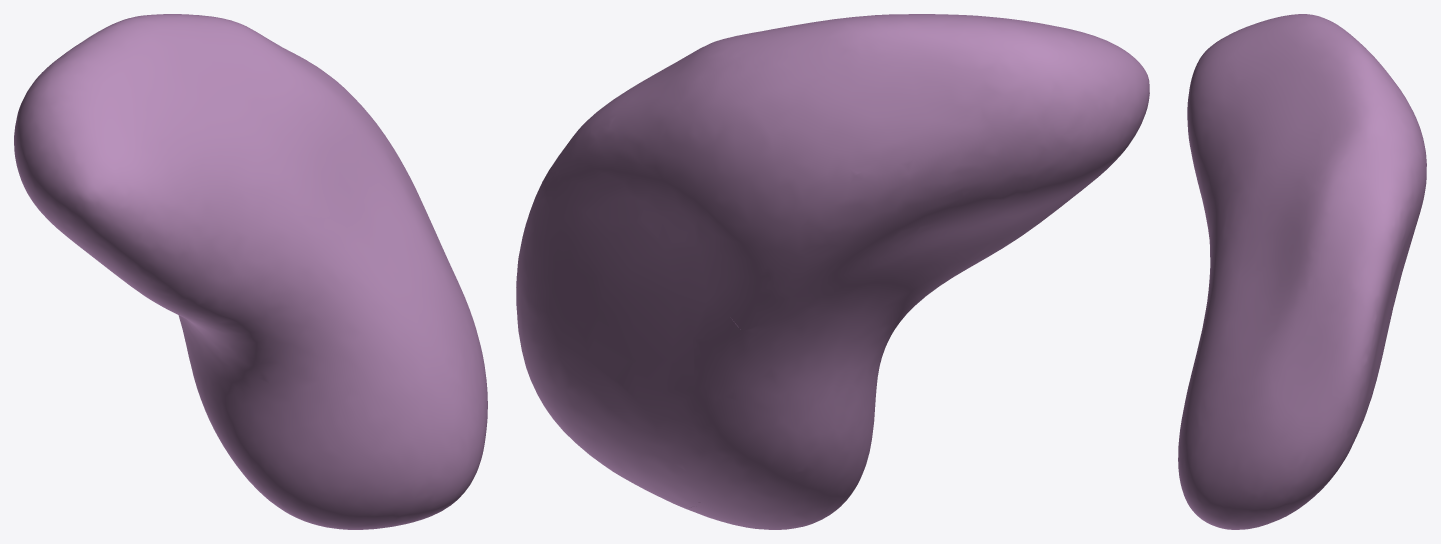
3 views of the same model, side by side, from view 1: azimuth 30°, elevation 25°; view 2: azimuth 150°, elevation 25°; view 3: azimuth 270°, elevation 25° (orthographic). The views are drawn at different scales.
Parts seen in each view (by area): view 1: 左侧二腹小叶; view 2: 左侧二腹小叶; view 3: 左侧二腹小叶.
Part boxes in pixels (<box>): 左侧二腹小叶: <box>14,14,487,529</box>; 左侧二腹小叶: <box>516,14,1149,529</box>; 左侧二腹小叶: <box>1178,14,1426,529</box>.
Size of the model in its own units: 0.0508 by 0.0522 by 0.0295.
